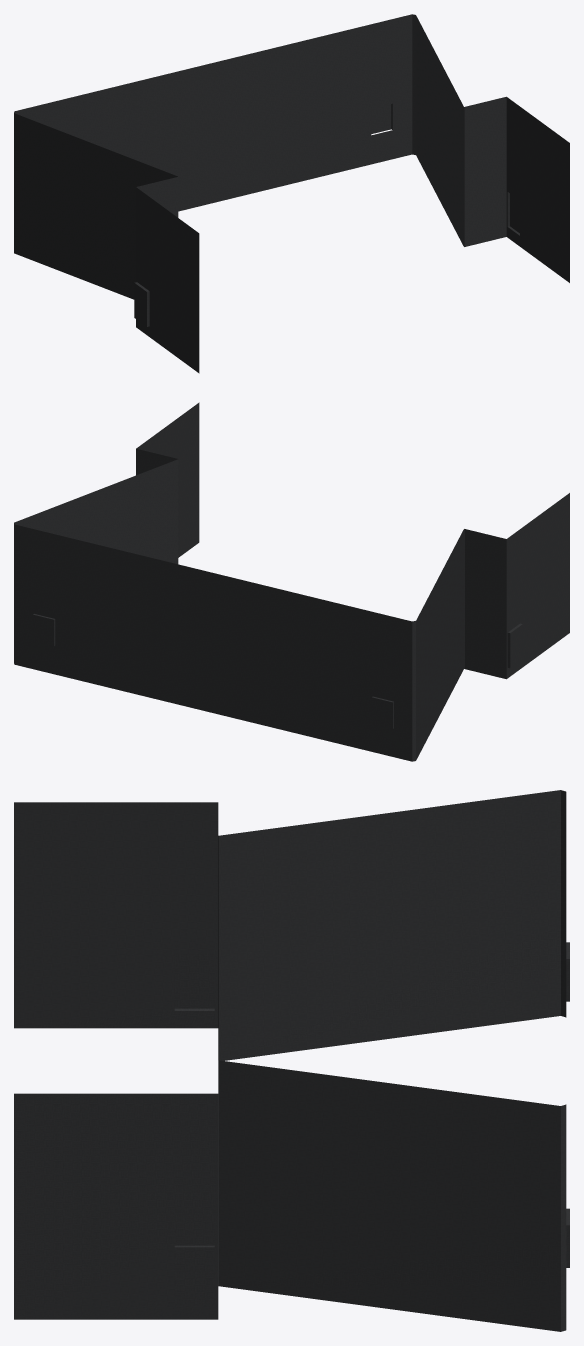
Rendered from Auditorium02_Wall.FBX.
3 renders of one model, top to bottom at view 1: azimuth 30°, elevation 25°; view 2: azimuth 150°, elevation 25°; view 3: azimuth 270°, elevation 25°, orthographic. The views are drawn at different scales.
Parts seen in each view (by area): view 1: Auditorium02_Wall; view 2: Auditorium02_Wall; view 3: Auditorium02_Wall.
Part boxes in pixels (left/top/right/bottom): Auditorium02_Wall: left=14, top=14, right=569, bottom=373; Auditorium02_Wall: left=14, top=402, right=569, bottom=761; Auditorium02_Wall: left=14, top=790, right=569, bottom=1331.
Bounding box in the file's own units: 48365 × 16122 × 35958.
1 material, 1 textured.
